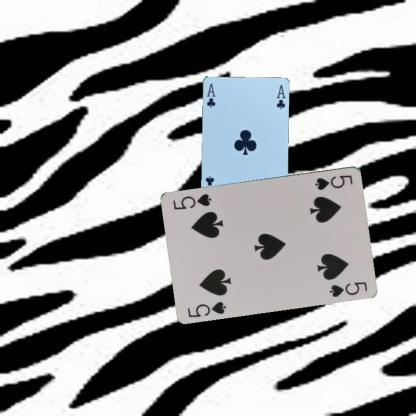5s: (186, 298, 228, 318), (313, 172, 354, 191)
Ac: (204, 81, 216, 109)
